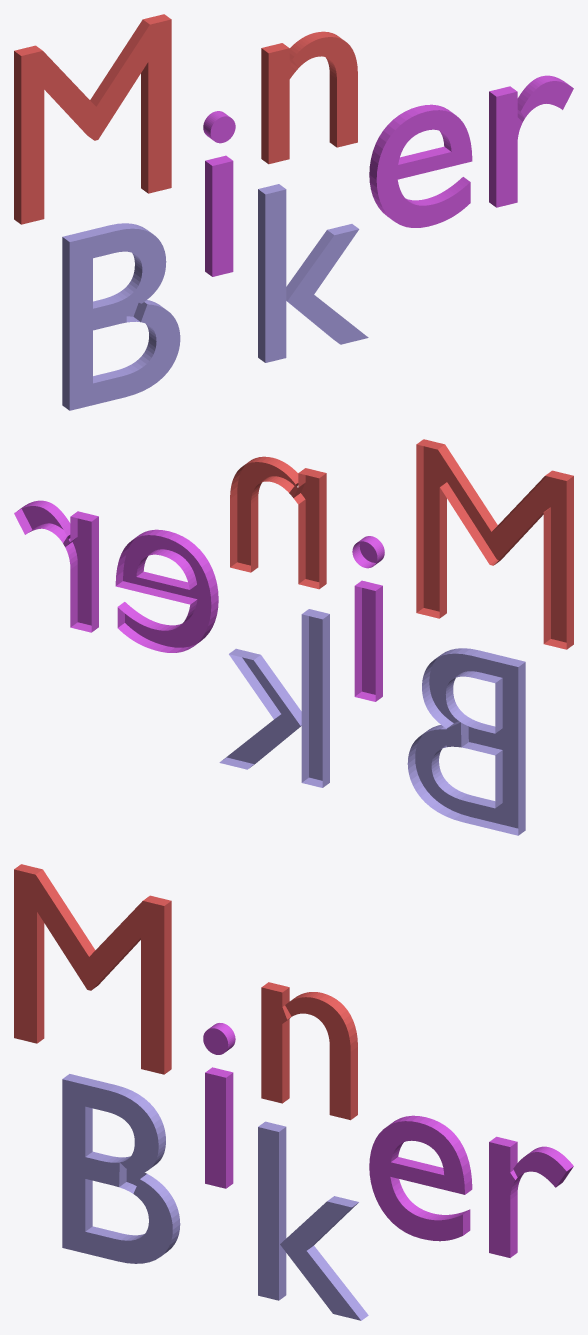
File: Title.gltf
3 renders of one model, top to bottom at view 1: azimuth 30°, elevation 25°; view 2: azimuth 150°, elevation 25°; view 3: azimuth 330°, elevation 25°, orthographic.
Parts seen in each view (by area): view 1: テキスト, テキスト.002, テキスト.001; view 2: テキスト, テキスト.002, テキスト.001; view 3: テキスト, テキスト.002, テキスト.001.
Boxes of the visible parts, x1,y1,x2,y2 form: テキスト: (62,184,368,410); テキスト.002: (14,14,357,224); テキスト.001: (203,75,573,276); テキスト: (219,609,525,835); テキスト.002: (230,439,573,649); テキスト.001: (14,500,384,701); テキスト: (62,1074,368,1320); テキスト.002: (14,864,357,1120); テキスト.001: (203,1023,573,1257).
Bounding box in the file's own units: 2.34 × 1.48 × 0.0543.
